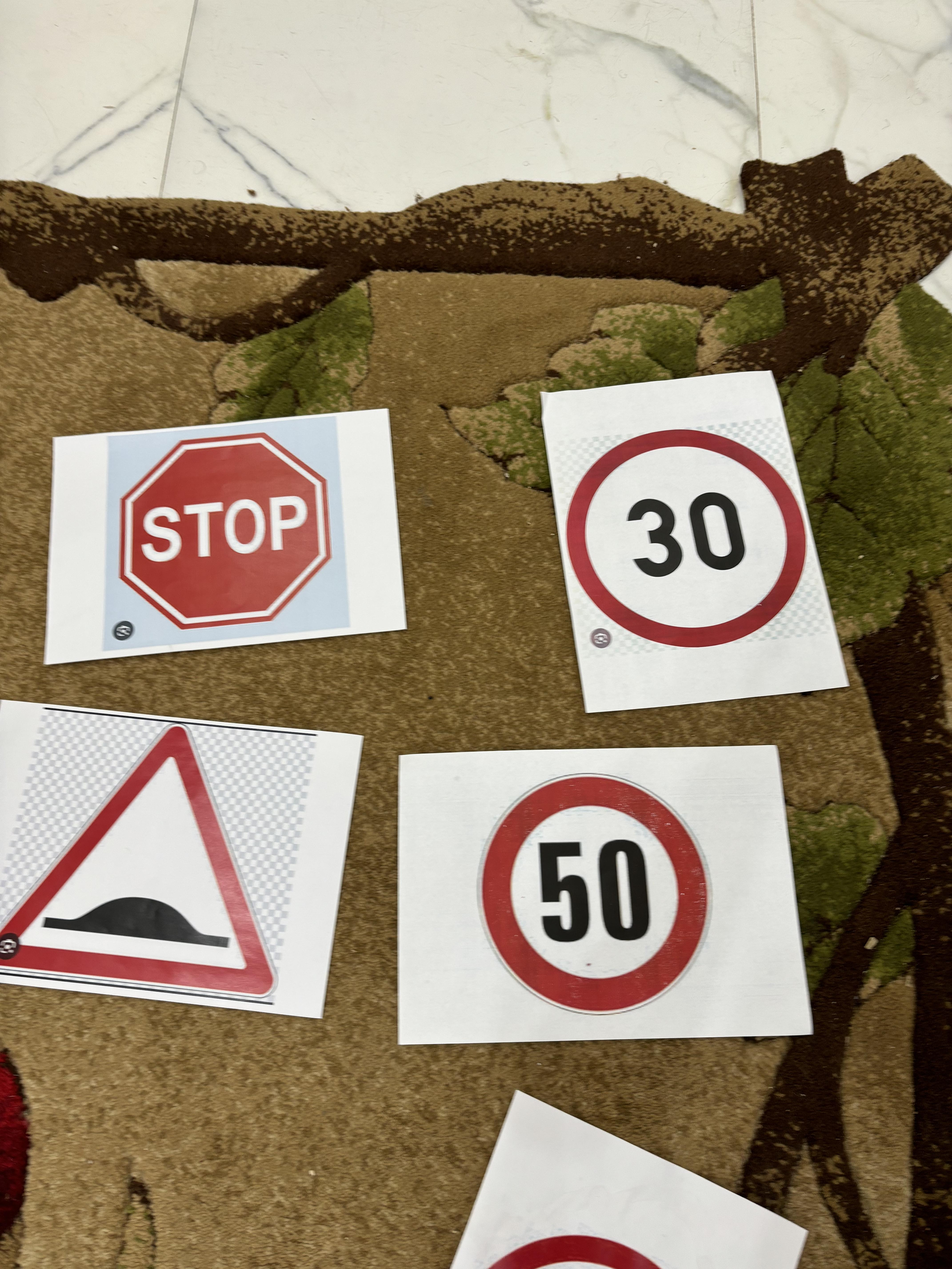30-speed: (563, 425, 808, 646)
50-Speed: (474, 756, 721, 1025)
Hump: (3, 716, 282, 1016)
Stop: (114, 423, 335, 625)
